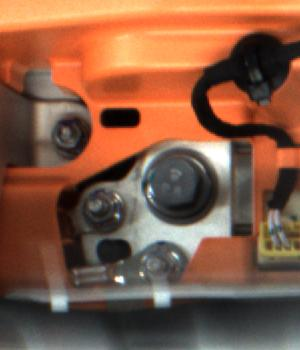nut_b: (141, 144, 220, 224)
